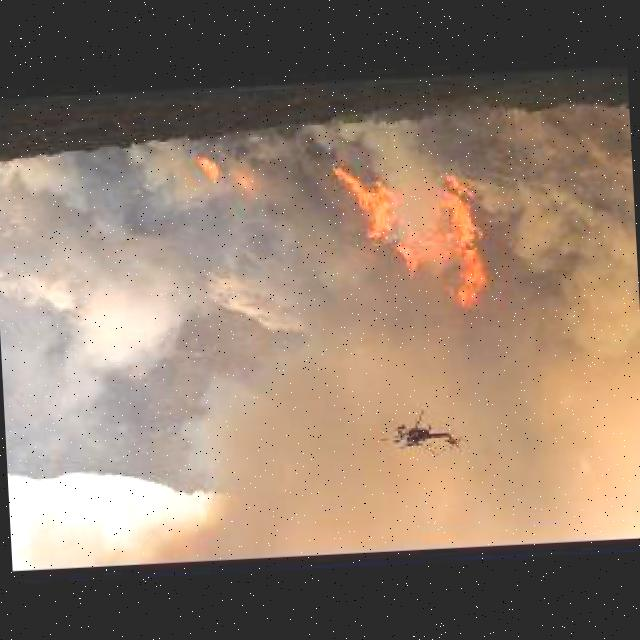fire: (324, 156, 503, 332), (193, 150, 264, 206)
